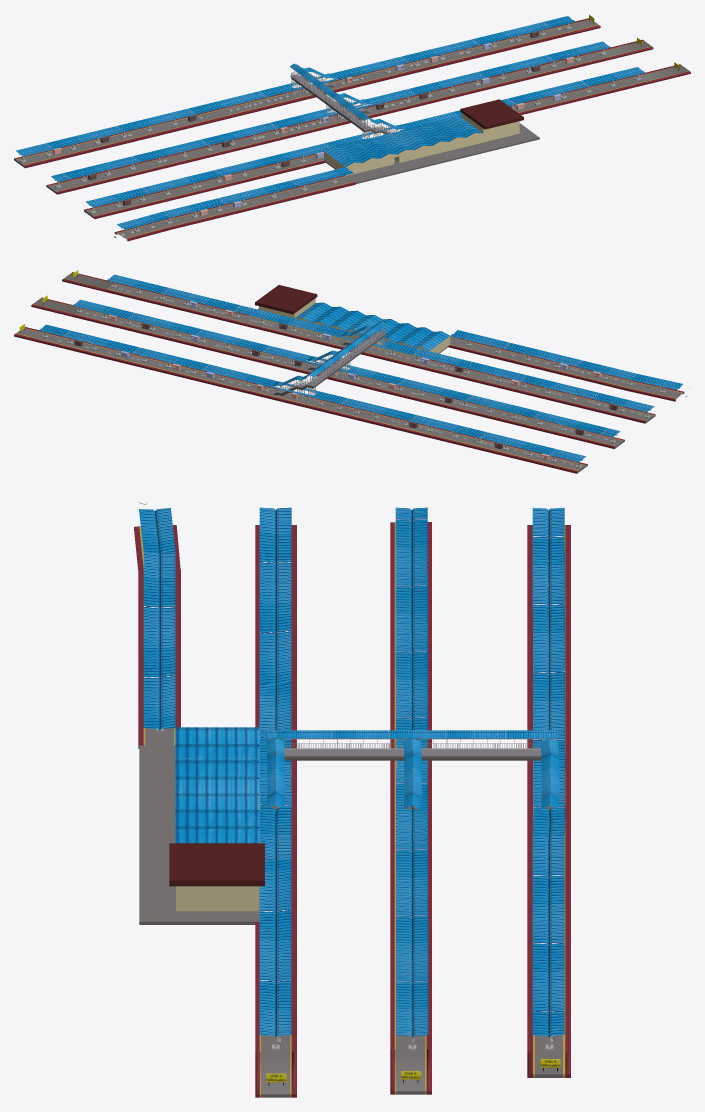
The model's file is newRS-transformed.glb.
3 views of the same model, one above another, from view 1: azimuth 30°, elevation 25°; view 2: azimuth 150°, elevation 25°; view 3: azimuth 270°, elevation 25° (orthographic). The views are drawn at different scales.
Visible parts, largest first — view 1: polySurface578.002, polySurface578.001, polySurface578.003, polySurface539.002, pCube4, polySurface539.001, polySurface454, polySurface577, Cube.002, polySurface539.004, polySurface494.001, Cube.001 (+3 smaller); view 2: polySurface578.001, polySurface578.003, polySurface578.002, polySurface539.001, polySurface539.002, polySurface454, pCube4, polySurface577, polySurface494.001, polySurface539.004, Cube.001, Roof_M (+2 smaller); view 3: polySurface539.001, polySurface454, polySurface539.002, pCube4, polySurface578.001, Cube.002, polySurface578.002, polySurface539.004, polySurface578.003, Cube.001, polySurface577, Fob_Mid_Railings_M2 (+6 smaller).
Part boxes in pixels (x1,y1,x2,y2): polySurface578.002: (46, 39, 653, 194); polySurface578.001: (14, 18, 600, 168); polySurface578.003: (84, 64, 690, 218); polySurface539.002: (51, 41, 610, 181); pCube4: (324, 117, 483, 175); polySurface539.001: (16, 16, 575, 156); polySurface454: (86, 67, 645, 207); polySurface577: (114, 175, 355, 241); Cube.002: (325, 123, 539, 183); polySurface539.004: (117, 167, 353, 229); polySurface494.001: (20, 22, 642, 237); Cube.001: (460, 99, 523, 142); polySurface578.001: (14, 327, 587, 473); polySurface578.003: (62, 272, 655, 423); polySurface578.002: (31, 297, 624, 448); polySurface539.001: (38, 324, 586, 462); polySurface539.002: (72, 299, 620, 436); polySurface454: (106, 274, 654, 412); pCube4: (295, 302, 450, 357); polySurface577: (448, 338, 684, 401); polySurface494.001: (41, 281, 690, 468); polySurface539.004: (450, 330, 682, 389); Cube.001: (255, 285, 317, 326); Roof_M: (306, 321, 386, 377); polySurface539.001: (532, 507, 565, 1037); polySurface454: (259, 507, 292, 1037); polySurface539.002: (395, 507, 428, 1037); pCube4: (175, 727, 259, 843); polySurface578.001: (527, 525, 570, 1077); Cube.002: (139, 745, 259, 924); polySurface578.002: (390, 522, 431, 1094); polySurface539.004: (139, 508, 175, 730); polySurface578.003: (255, 525, 296, 1097); Cube.001: (169, 843, 264, 911); polySurface577: (134, 525, 180, 748); Fob_Mid_Railings_M2: (268, 738, 556, 755).
Bounding box in the file's own units: 1.77 × 0.0887 × 0.5674.
Materials: 3 (3 with a texture image).
